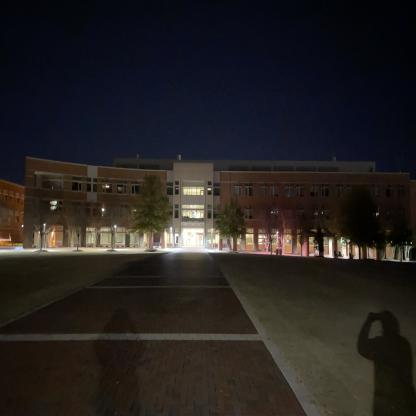eb2: (22, 146, 415, 266)
